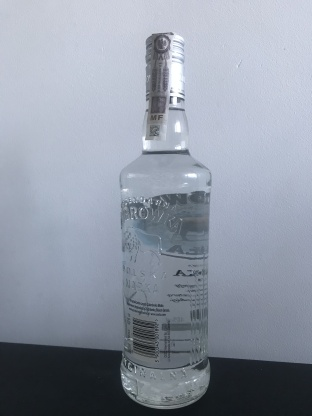nakretka: (142, 27, 187, 104)
